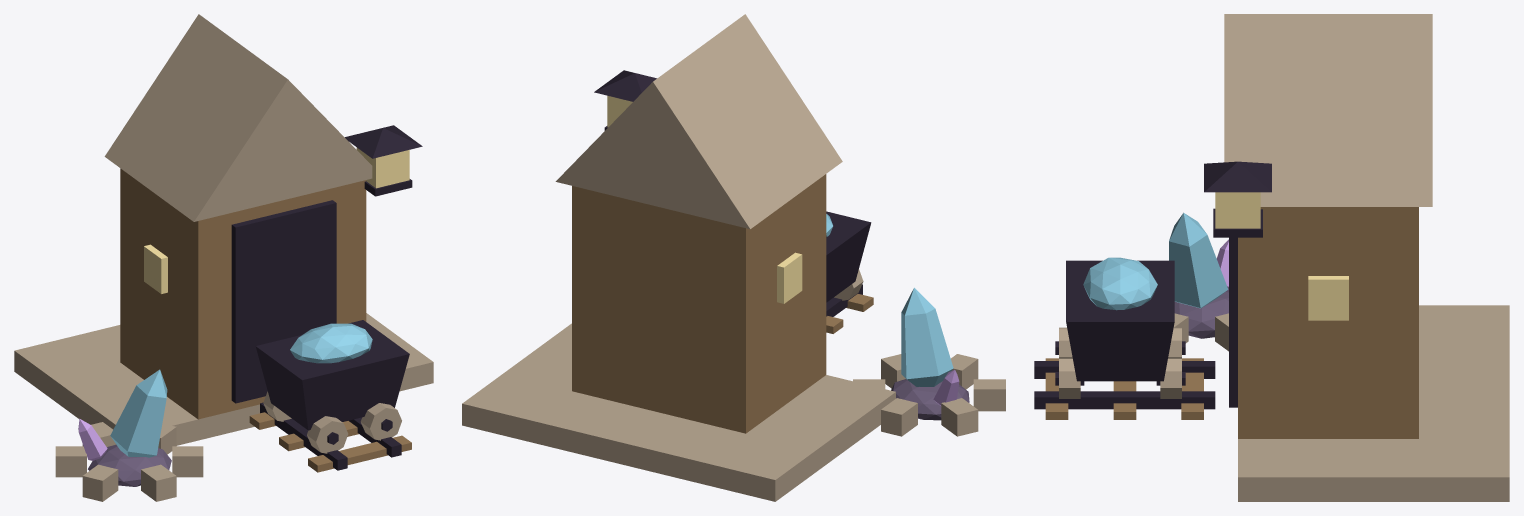
Rendered from cave-landmark-s2c.glb.
3 views of the same model, side by side, from view 1: azimuth 30°, elevation 25°; view 2: azimuth 150°, elevation 25°; view 3: azimuth 270°, elevation 25° (orthographic). The views are drawn at different scales.
Visible parts, largest first — view 1: cave-landmark-s2c; view 2: cave-landmark-s2c; view 3: cave-landmark-s2c.
Boxes of the visible parts, box(x1,y1,x2,y2) form: cave-landmark-s2c: box(14, 14, 433, 501); cave-landmark-s2c: box(462, 14, 1005, 501); cave-landmark-s2c: box(1034, 14, 1509, 501).
Size of the model in its own units: 1.13 by 0.98 by 1.05.
